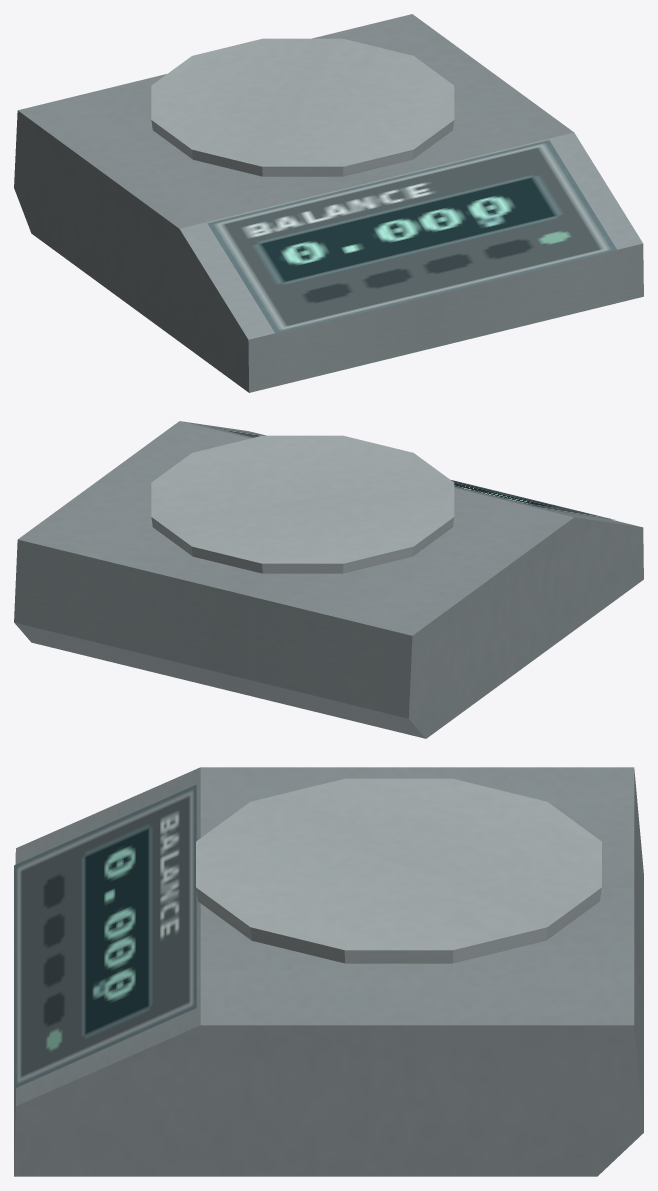
The model's file is Laboratory_Balance.glb.
3 renders of one model, top to bottom at view 1: azimuth 30°, elevation 25°; view 2: azimuth 150°, elevation 25°; view 3: azimuth 270°, elevation 25°, orthographic. The views are drawn at different scales.
Parts seen in each view (by area): view 1: Laboratory_Balance; view 2: Laboratory_Balance; view 3: Laboratory_Balance.
Boxes of the visible parts, <box> form: Laboratory_Balance: <box>14,14,643,392</box>; Laboratory_Balance: <box>14,421,643,738</box>; Laboratory_Balance: <box>14,767,643,1176</box>.
Bounding box in the file's own units: 0.314 × 0.104 × 0.324.
1 material, 1 textured.
